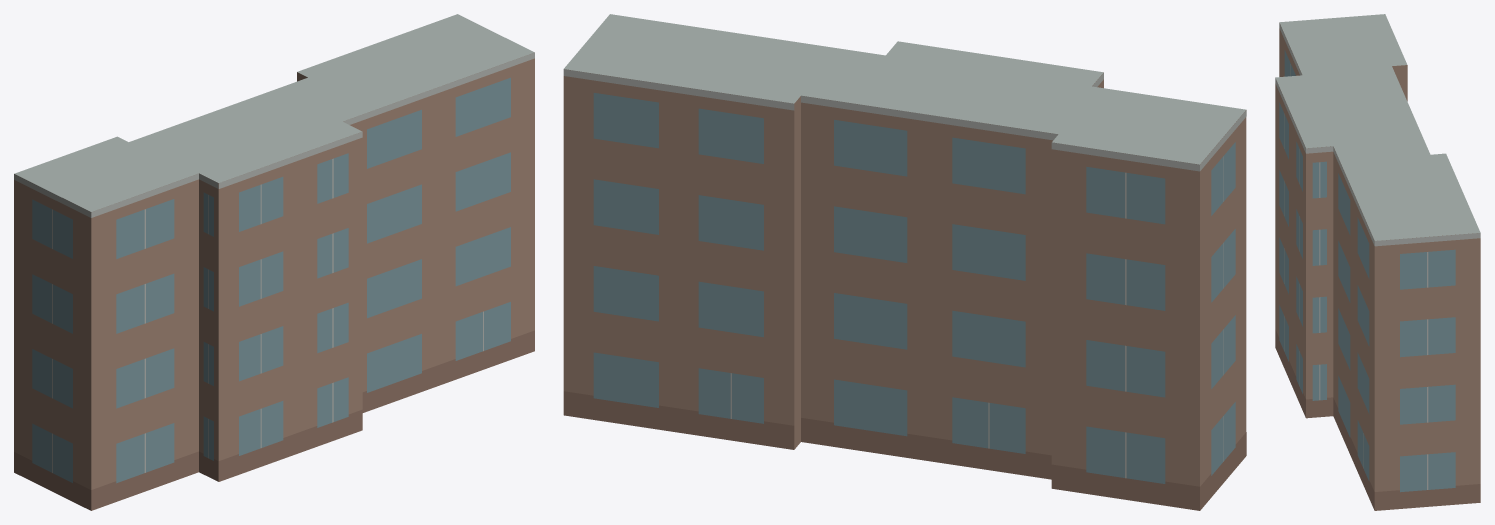
Rendered from survey-upis-32623903.glb.
3 views of the same model, side by side, from view 1: azimuth 30°, elevation 25°; view 2: azimuth 150°, elevation 25°; view 3: azimuth 270°, elevation 25° (orthographic). The views are drawn at different scales.
Parts seen in each view (by area): view 1: survey-upis-32623903.tmp; view 2: survey-upis-32623903.tmp; view 3: survey-upis-32623903.tmp.
Boxes of the visible parts, x1,y1,x2,y2 form: survey-upis-32623903.tmp: (14, 14, 534, 510); survey-upis-32623903.tmp: (563, 14, 1246, 510); survey-upis-32623903.tmp: (1275, 14, 1480, 510).
Bounding box in the file's own units: 22.01 × 12.2 × 8.42.
